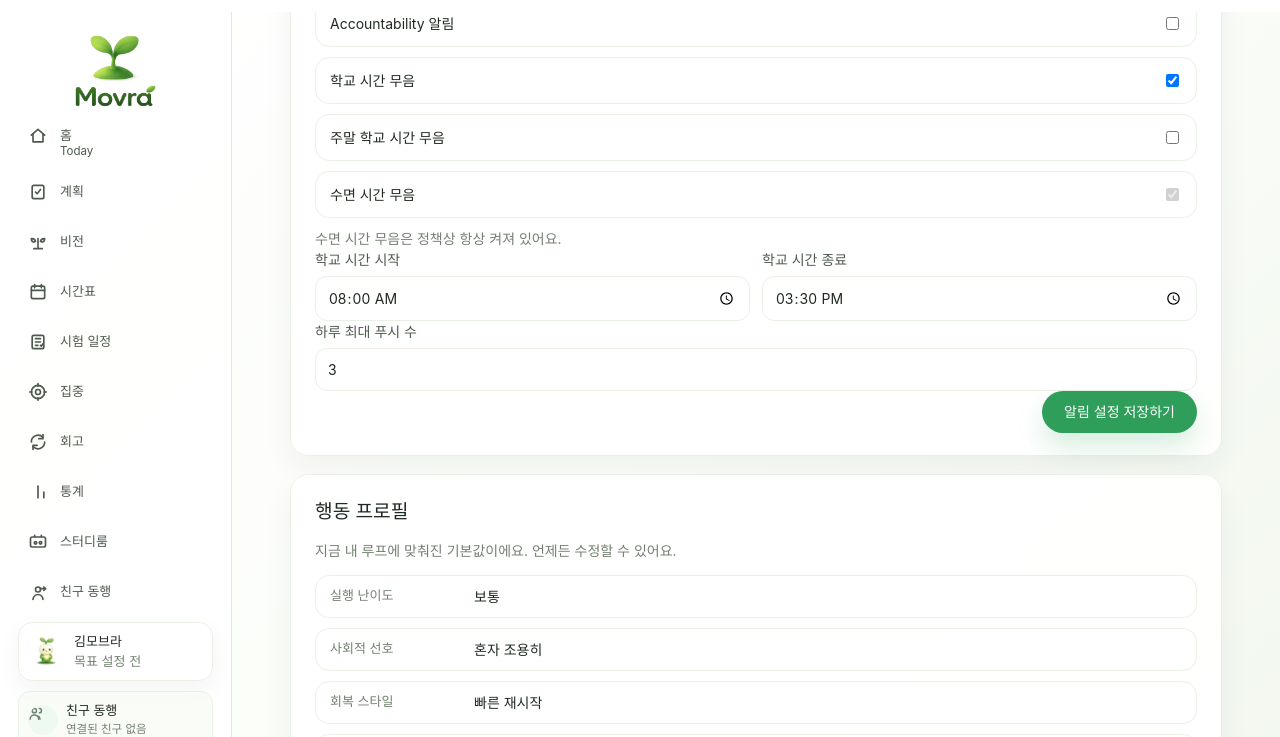
Test: SettingsPage notification section › surfaces a 400 error when notification update fails
(page scrolled)
Step 1. Click the button "알림 설정 저장하기" → (1120, 412), box [1042,391,1197,433]
(page scrolled)
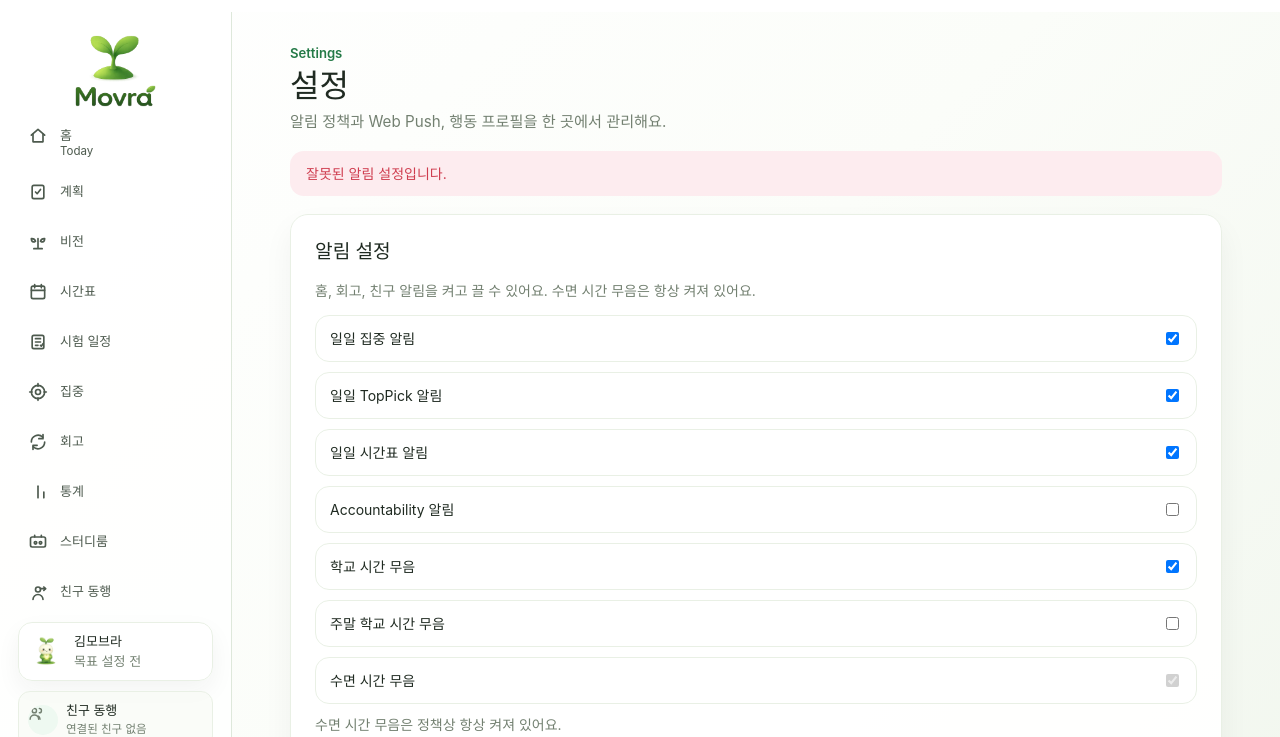
Expected: the text "잘못된 알림 설정입니다." is shown, [290,151,1222,196]
